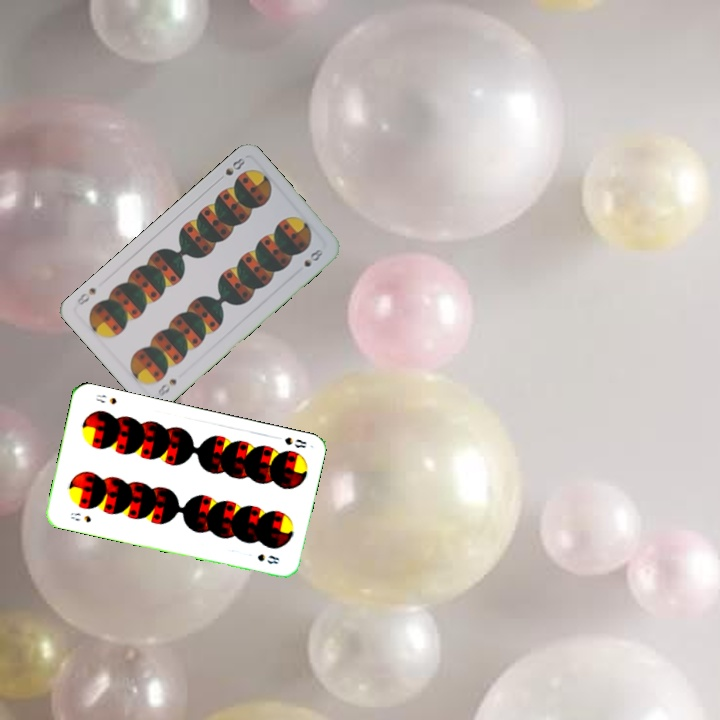S8: (213, 154, 248, 184), (270, 432, 309, 451), (153, 374, 179, 399), (67, 508, 94, 525)
